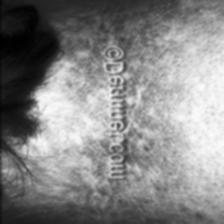Unclassified: (125, 29, 174, 223), (61, 36, 103, 201)
